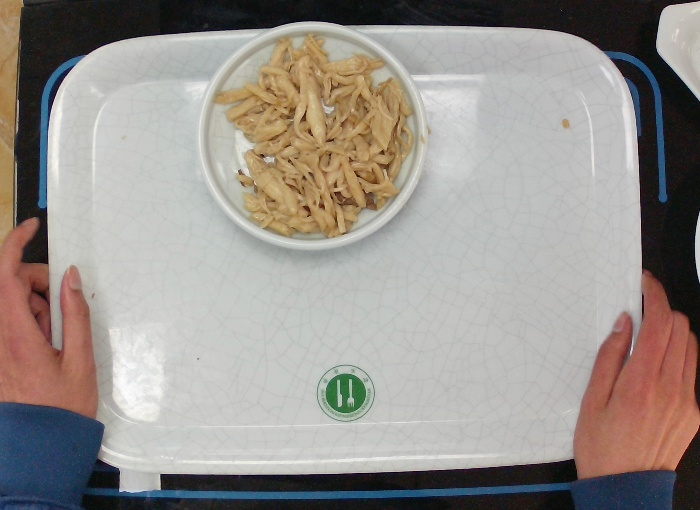JYsf-Xiao_Yuan_Pan: (189, 11, 435, 253)
